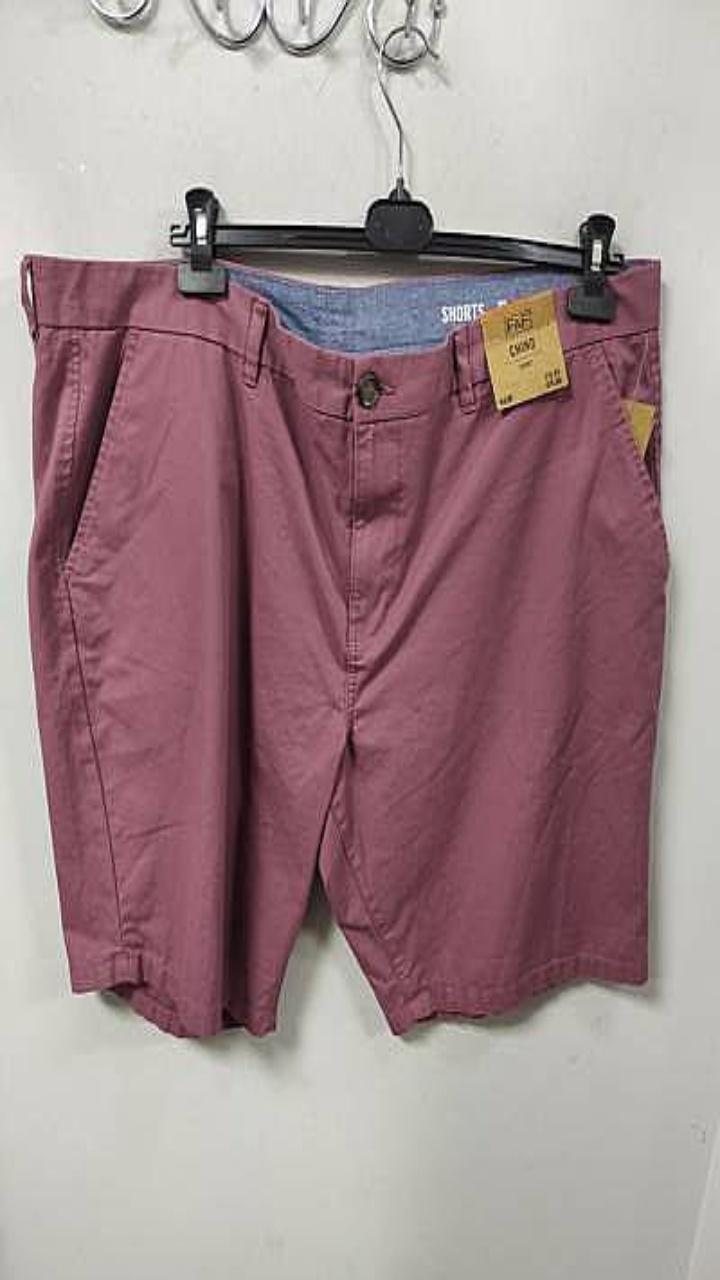Shorts: (21, 254, 668, 1036)
